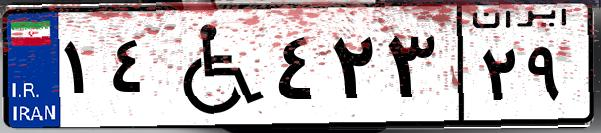1: (57, 26, 110, 100)
2: (330, 28, 385, 110), (475, 38, 525, 113)
3: (385, 28, 445, 110)
4: (270, 28, 330, 110), (110, 28, 158, 98)
9: (525, 38, 570, 115)
ژ (معلولین و جانبازان): (158, 12, 270, 120)
